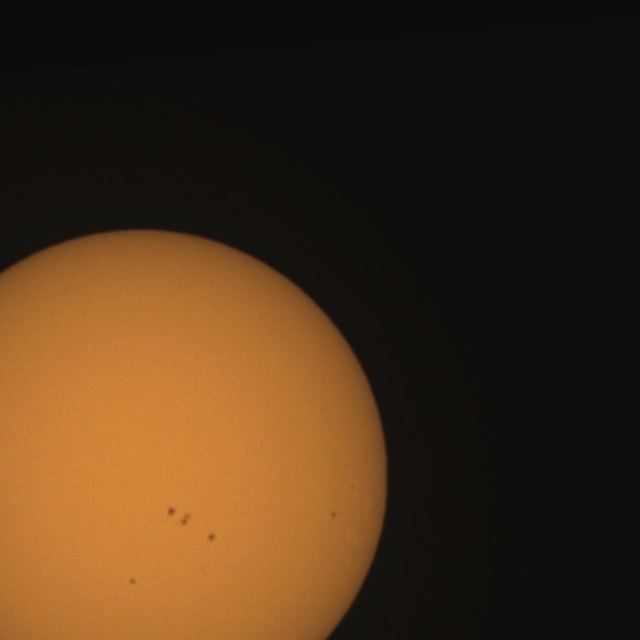sunspot: (167, 505, 193, 527), (206, 532, 217, 543), (329, 510, 338, 520), (128, 576, 137, 586)
